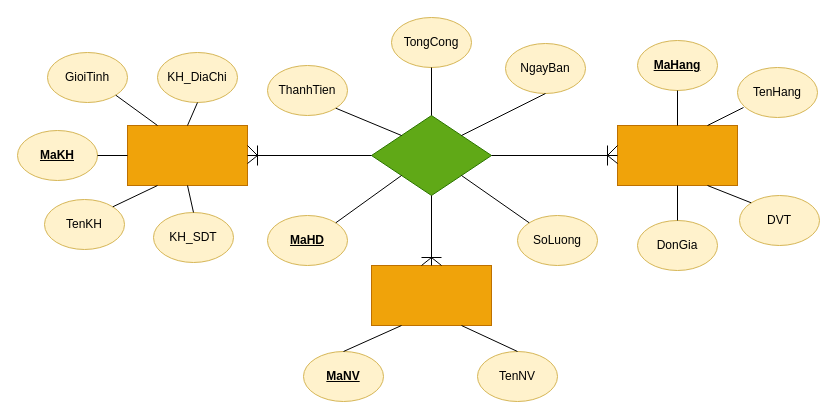
This 837x419 diagram has some shape labels left out. The centre of each missing label's shape, as x and y in pixels:
"BAN" belongs at (x=431, y=155).
"CUAHANG" belongs at (x=431, y=295).
"HANGHOA" belongs at (x=677, y=155).
"KHACHHANG" belongs at (x=187, y=155).
